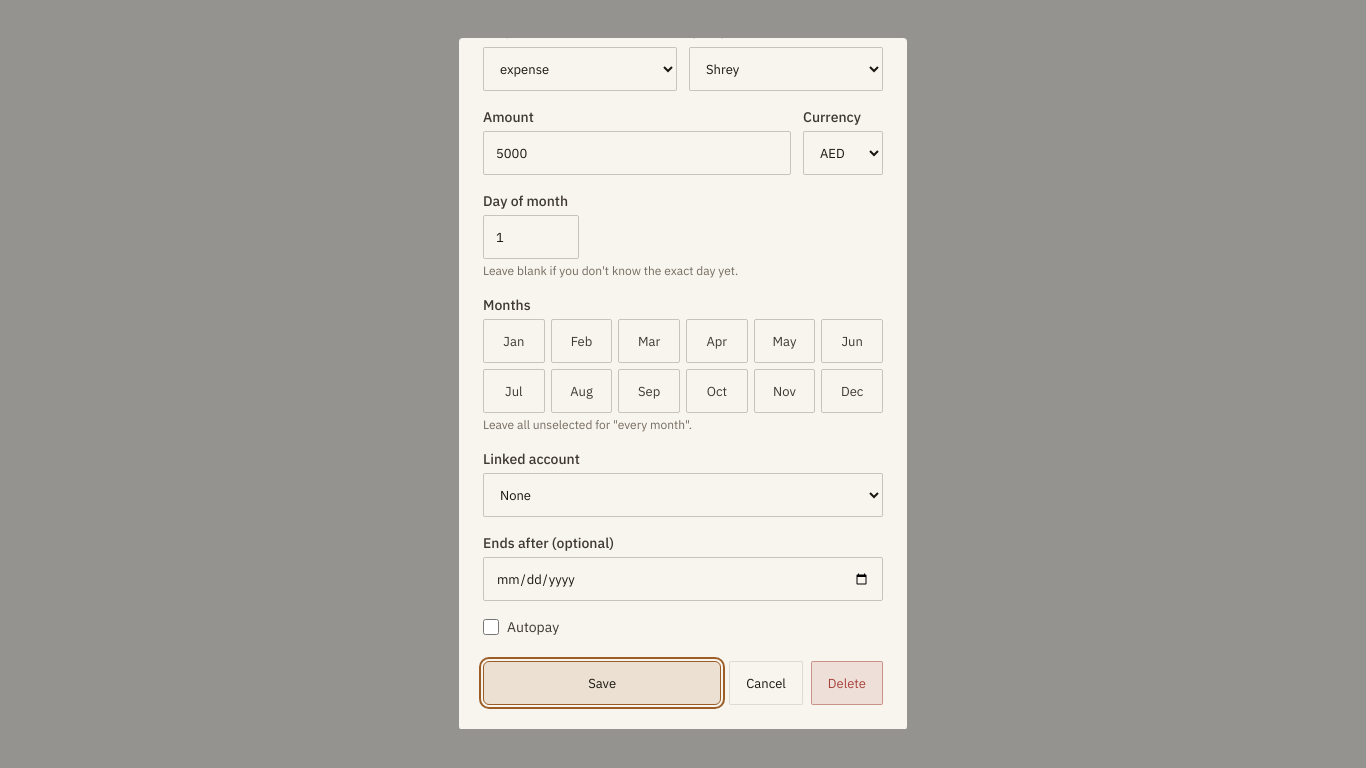
Scenario: RecurringForm action footer › submits once, preserves the payload and exact pending label, and blocks double-submit
(page scrolled)
Press Enter
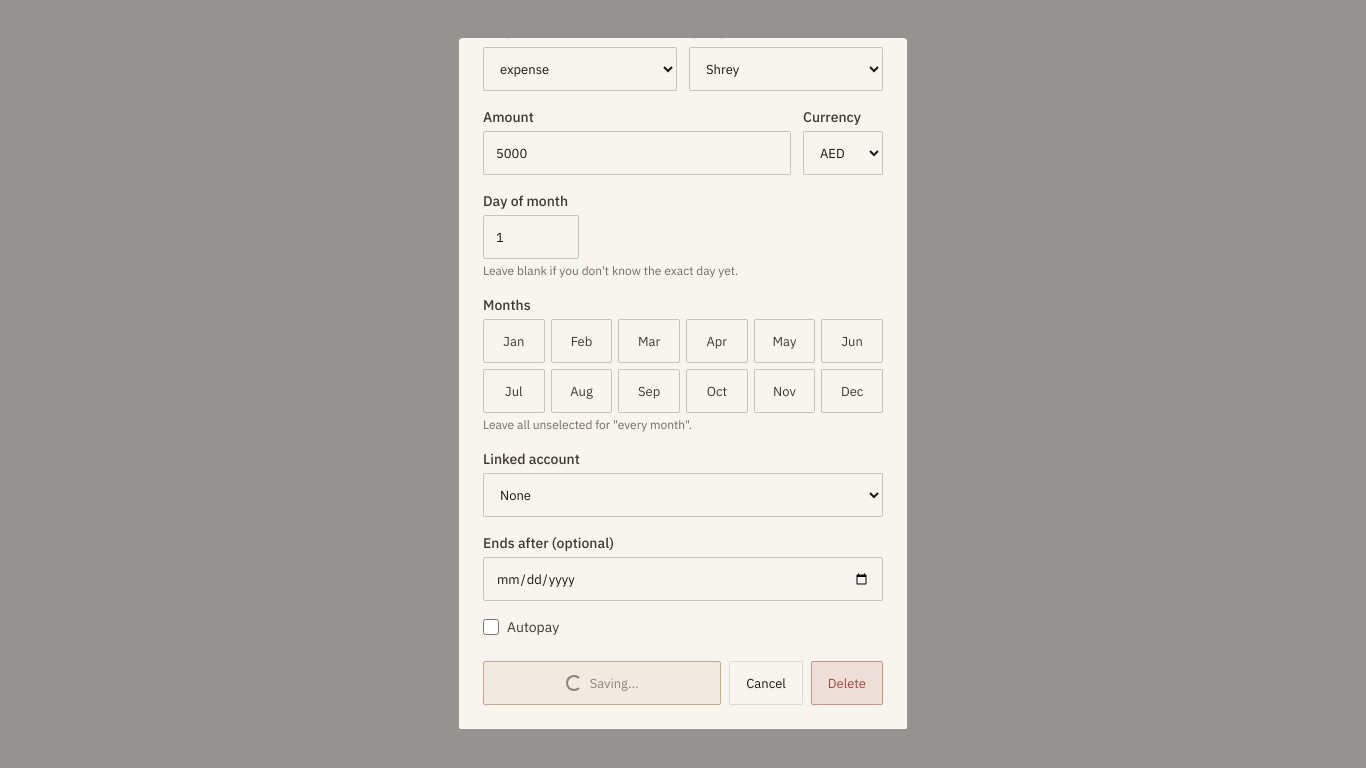
expect the button "Saving…" is disabled: met
Click the button "Saving…" at [602, 683], box [483,661,721,705]
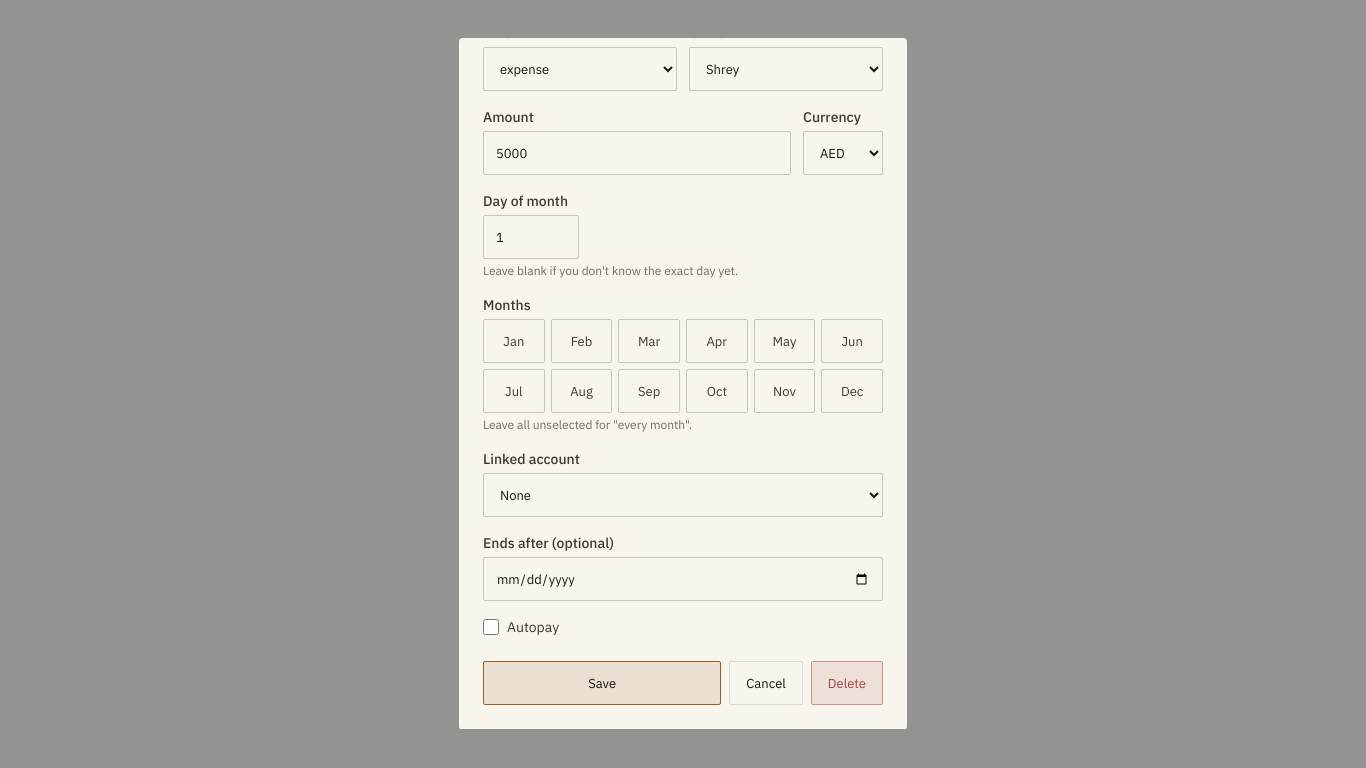
expect the button "Save" is enabled: met, box [483,661,721,705]
